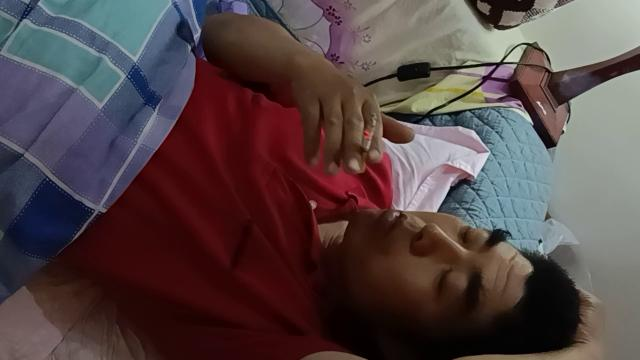Cigarette: (357, 113, 377, 173)
